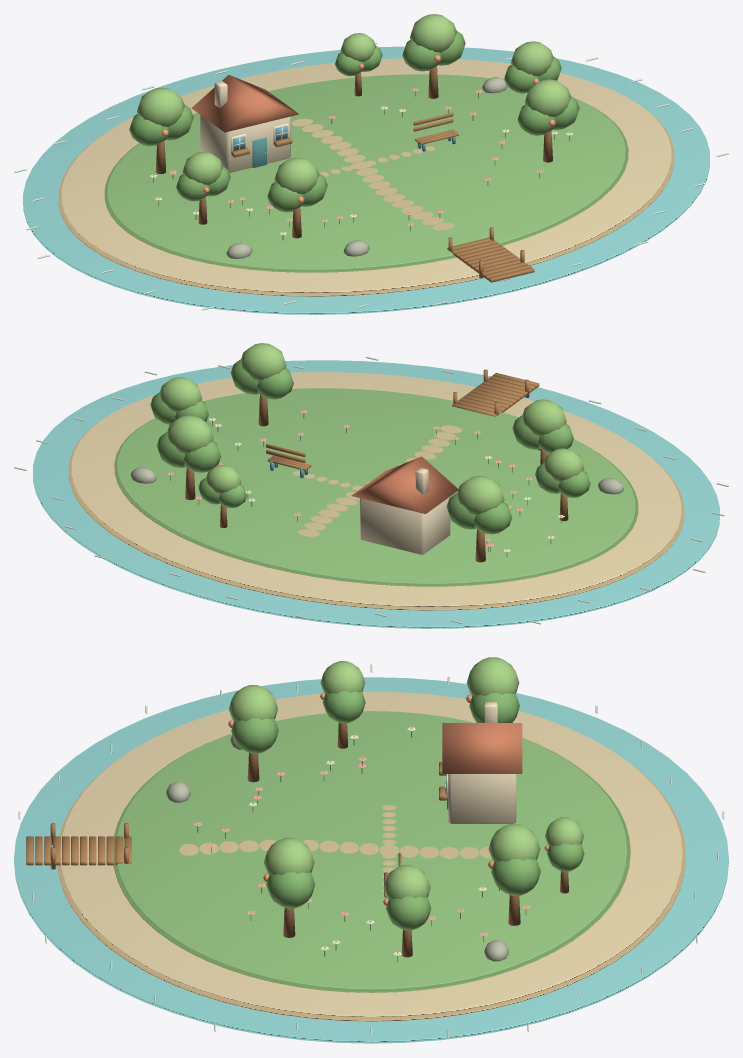
Rendered from island.glb.
3 views of the same model, one above another, from view 1: azimuth 30°, elevation 25°; view 2: azimuth 150°, elevation 25°; view 3: azimuth 270°, elevation 25° (orthographic). The views are drawn at different scales.
Parts seen in each view (by area): view 1: meadow, shallows, beach, gable roof, shore, cottage, grass bank, pear canopy.014, pear canopy.017, pear canopy.008, pear canopy.002, pear canopy.011 (+10 smaller); view 2: meadow, shallows, beach, cottage, shore, gable roof, grass bank, pear canopy.014, pear canopy.017, pear canopy.008, pear canopy.002, pear canopy.011 (+13 smaller); view 3: meadow, beach, shallows, shore, gable roof, cottage, grass bank, pear canopy.014, pear canopy.017, pear canopy.008, pear canopy.016, pear canopy.007 (+9 smaller).
Boxes of the visible parts, box(x1,y1,x2,y2) form: meadow: box(107, 74, 625, 269); shallows: box(23, 46, 709, 314); beach: box(61, 58, 671, 293); gable roof: box(191, 75, 298, 132); shore: box(58, 108, 674, 296); cottage: box(200, 115, 290, 172); grass bank: box(104, 100, 628, 272); pear canopy.014: box(137, 87, 184, 126); pear canopy.017: box(410, 14, 456, 52); pear canopy.008: box(525, 79, 570, 116); pear canopy.002: box(274, 157, 319, 194); pear canopy.011: box(511, 41, 553, 76); meadow: box(117, 388, 635, 583); shallows: box(33, 360, 719, 628); beach: box(71, 372, 681, 607); cottage: box(360, 496, 450, 554); shore: box(68, 422, 684, 610); gable roof: box(351, 456, 458, 513); grass bank: box(114, 418, 638, 586); pear canopy.014: box(456, 476, 504, 514); pear canopy.017: box(167, 415, 213, 453); pear canopy.008: box(240, 343, 286, 380); pear canopy.002: box(522, 399, 566, 435); pear canopy.011: box(159, 377, 202, 411); meadow: box(117, 711, 626, 989); beach: box(60, 691, 682, 1017); shallows: box(14, 677, 728, 1043); shore: box(57, 752, 685, 1021); gable roof: box(442, 723, 522, 773); cottage: box(448, 774, 516, 823); grass bank: box(113, 736, 630, 992); pear canopy.014: box(466, 657, 519, 696); pear canopy.017: box(488, 824, 540, 862); pear canopy.008: box(264, 837, 314, 875); pear canopy.016: box(491, 859, 540, 895); pear canopy.007: box(266, 872, 315, 908).
Size of what is drawn, in the model's own units: 24.73 by 3.44 by 20.
